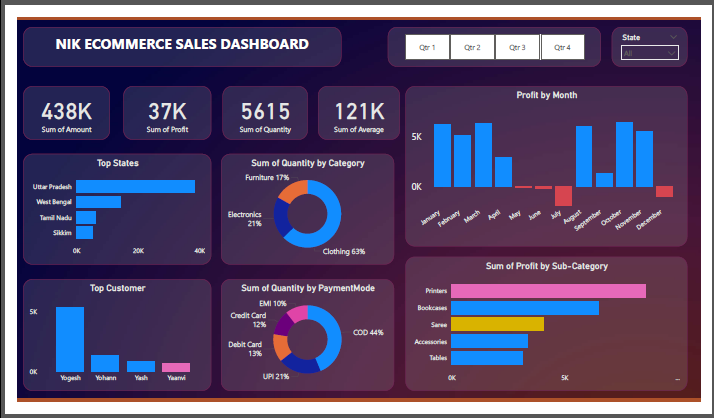

This screenshot's page, from the dashboard's own definition file:
{"tool":"powerbi","page":{"name":"Page 1","canvas":[1280,720],"ordinal":0},"visuals":[{"type":"textbox","box":[9.9,17,596.7,75.1],"z":0},{"type":"columnChart","title":"Profit by Month","fields":{"Category":["Orders.Order Date.Variation.Date Hierarchy.Month"],"Y":["Details.Profit"]},"box":[727.1,127.6,528.7,301.9],"z":1000},{"type":"barChart","fields":{"Category":["Details.Sub-Category"],"Y":["Details.Profit"]},"box":[727.1,447.9,528.7,252.3],"z":2000},{"type":"donutChart","fields":{"Category":["Details.Category"],"Y":["Details.Quantity"]},"box":[381.3,255.1,324.6,208.3],"z":3000},{"type":"donutChart","fields":{"Y":["Details.Quantity"],"Category":["Details.PaymentMode"]},"box":[381.3,490.4,324.6,209.8],"z":4000},{"type":"card","fields":{"Values":["Details.Amount"]},"box":[9.9,128,163,100.6],"z":5000},{"type":"card","fields":{"Values":["Details.Profit"]},"box":[198.4,128,164.4,100.6],"z":6000},{"type":"card","fields":{"Values":["Details.Quantity"]},"box":[384.1,128,160.2,100.6],"z":7000},{"type":"card","fields":{"Values":["Details.Average"]},"box":[562.7,128,154.5,100.6],"z":8000},{"type":"barChart","title":"Top States","fields":{"Category":["Orders.State"],"Y":["Details.Amount"]},"box":[9.9,255.1,352.9,208.3],"z":9000},{"type":"lineClusteredColumnComboChart","title":"Top Customer","fields":{"Category":["Orders.CustomerName"],"Y":["Details.Amount"]},"box":[9.9,490.4,352.9,209.8],"z":10000},{"type":"slicer","fields":{"Values":["Orders.Order Date.Variation.Date Hierarchy.Quarter"]},"box":[694.5,17,399.7,75.1],"z":11000},{"type":"slicer","fields":{"Values":["Orders.State"]},"box":[1114,17,141.7,75.1],"z":12000}]}

Visuals, with their boxes on the page's 1280x720 design canvas (x1, y1, x2, y2). These are canvas units, not pixel positions in the 714x418 screenshot, which may show the page scaled, cropped or inside an application window:
textbox: bbox=(10, 17, 607, 92)
"Profit by Month" columnChart: bbox=(727, 128, 1256, 430)
barChart - Details.Sub-Category x Details.Profit: bbox=(727, 448, 1256, 700)
donutChart - Details.Category x Details.Quantity: bbox=(381, 255, 706, 463)
donutChart - Details.Quantity x Details.PaymentMode: bbox=(381, 490, 706, 700)
card - Details.Amount: bbox=(10, 128, 173, 229)
card - Details.Profit: bbox=(198, 128, 363, 229)
card - Details.Quantity: bbox=(384, 128, 544, 229)
card - Details.Average: bbox=(563, 128, 717, 229)
"Top States" barChart: bbox=(10, 255, 363, 463)
"Top Customer" lineClusteredColumnComboChart: bbox=(10, 490, 363, 700)
slicer - Orders.Order Date.Variation.Date Hierarchy.Quarter: bbox=(694, 17, 1094, 92)
slicer - Orders.State: bbox=(1114, 17, 1256, 92)
